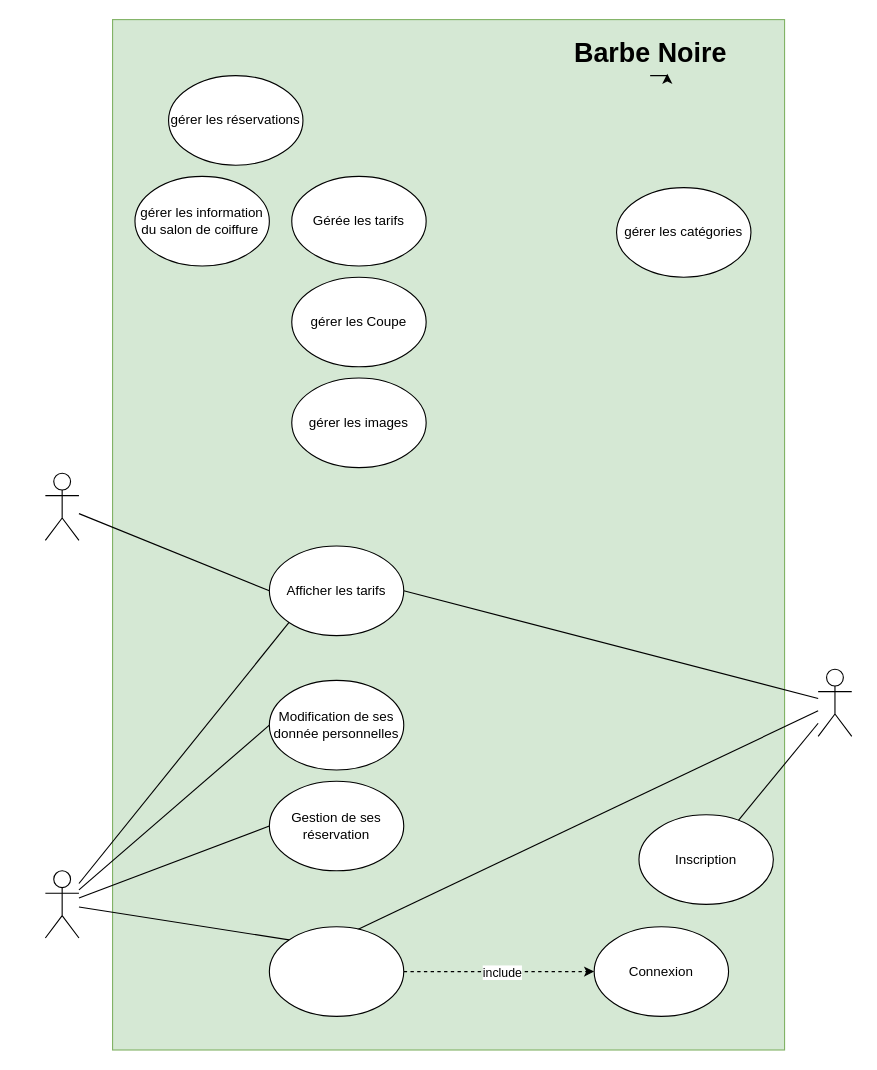
The diagram is 877 pixels wide and 1070 high, and some of its shapes have lost their labels. The centre of each missing label's shape, as x and y in pixels:
"Administrateur" goes at (61,506).
"client" goes at (61,904).
"Reserver une coupe de cheveux" goes at (336,971).
"Visiteur" goes at (834,702).
